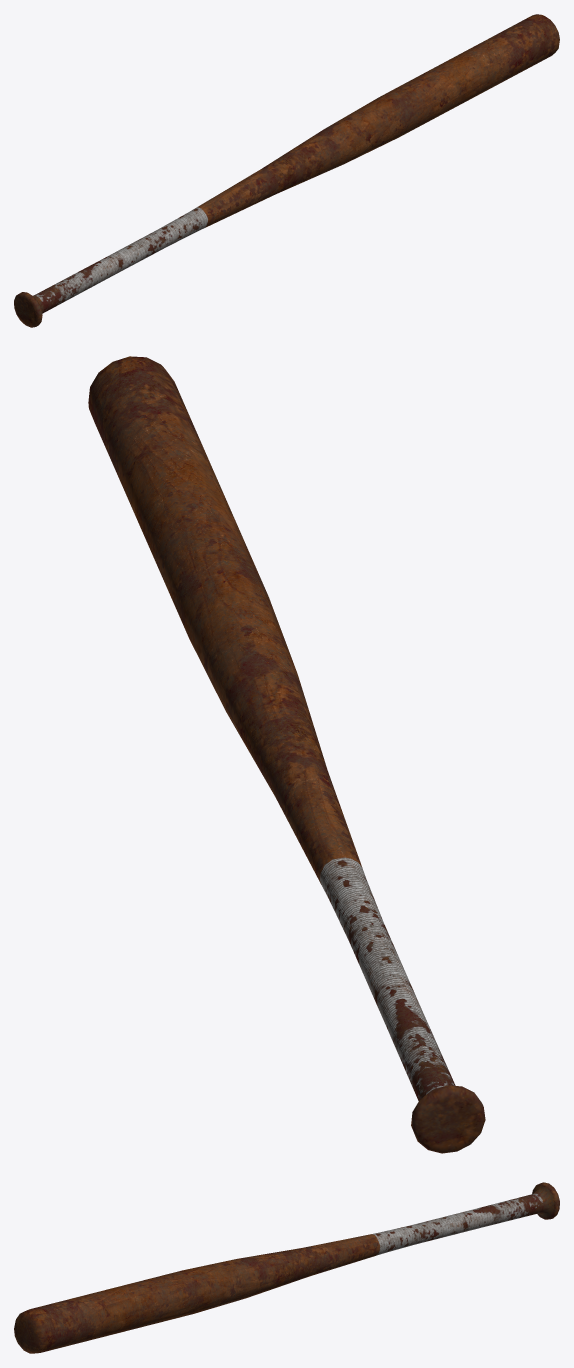
The model's file is Anim_idle_bate_objetos.0034.obj.
3 views of the same model, one above another, from view 1: azimuth 90°, elevation 25°; view 2: azimuth 150°, elevation 25°; view 3: azimuth 270°, elevation 25° (orthographic). The views are drawn at different scales.
Parts seen in each view (by area): view 1: Bate1; view 2: Bate1; view 3: Bate1.
Boxes of the visible parts, <box> form: Bate1: <box>14,14,559,327</box>; Bate1: <box>88,356,485,1153</box>; Bate1: <box>14,1182,559,1353</box>.
Bounding box in the file's own units: 3.8 × 0.8911 × 4.05.
